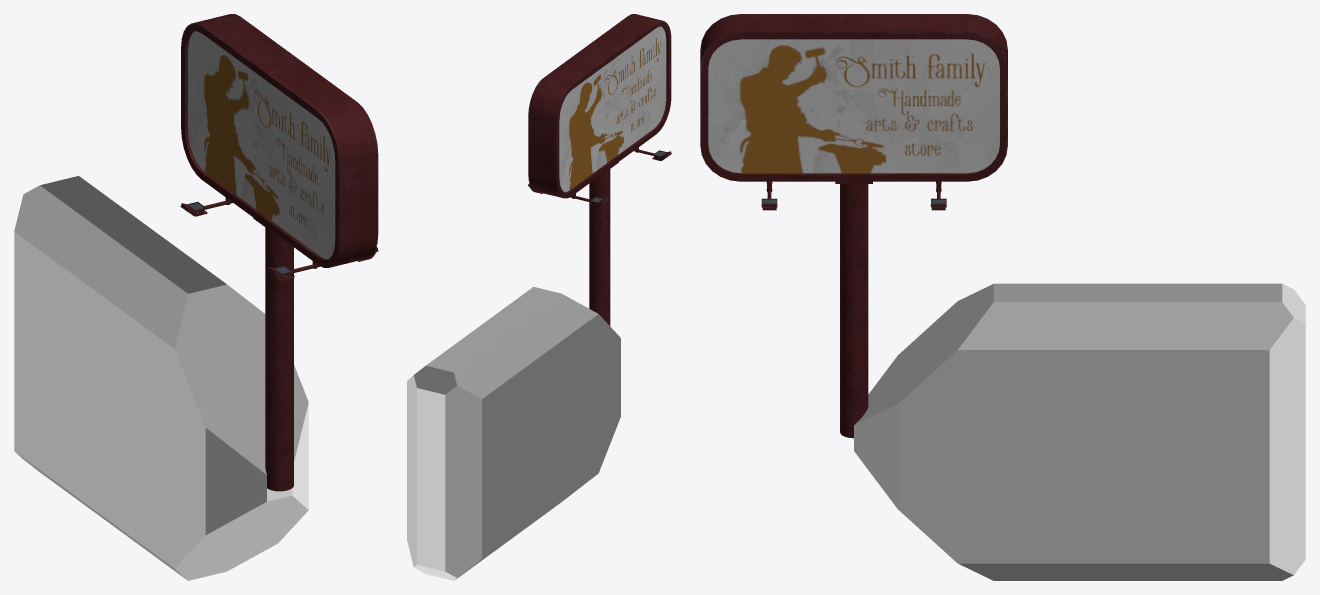
Rendered from SM_Billboard_05.fbx.
The picture shows the model from 3 angles, left to right: view 1: azimuth 30°, elevation 25°; view 2: azimuth 150°, elevation 25°; view 3: azimuth 270°, elevation 25°; orthographic projection. The views are drawn at different scales.
Parts seen in each view (by area): view 1: SM_Billboard_05_ConvexHulls, SM_Billboard_05_LOD0; view 2: SM_Billboard_05_ConvexHulls, SM_Billboard_05_LOD0; view 3: SM_Billboard_05_ConvexHulls, SM_Billboard_05_LOD0.
Part boxes in pixels (x1,y1,x2,y2): SM_Billboard_05_ConvexHulls: (14,176,308,580); SM_Billboard_05_LOD0: (180,14,378,491); SM_Billboard_05_ConvexHulls: (407,287,620,580); SM_Billboard_05_LOD0: (528,14,671,325); SM_Billboard_05_ConvexHulls: (854,283,1305,580); SM_Billboard_05_LOD0: (700,14,1007,438).
Size of the model in its own units: 222 by 1160 by 1160.
